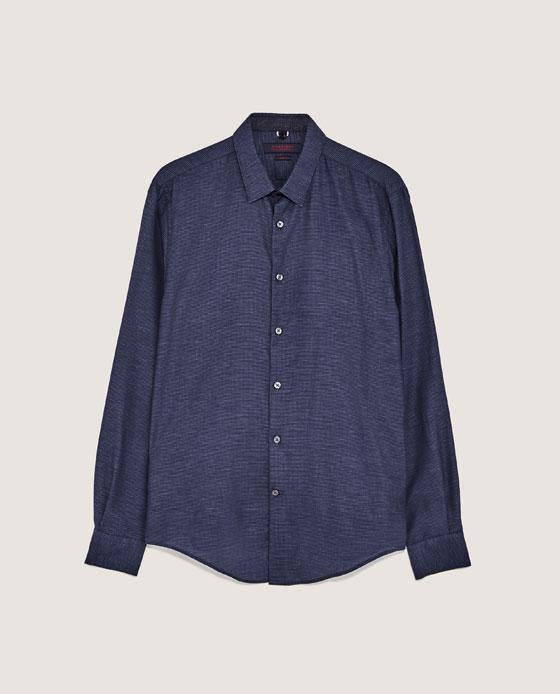teeshirt: (70, 111, 485, 631)
